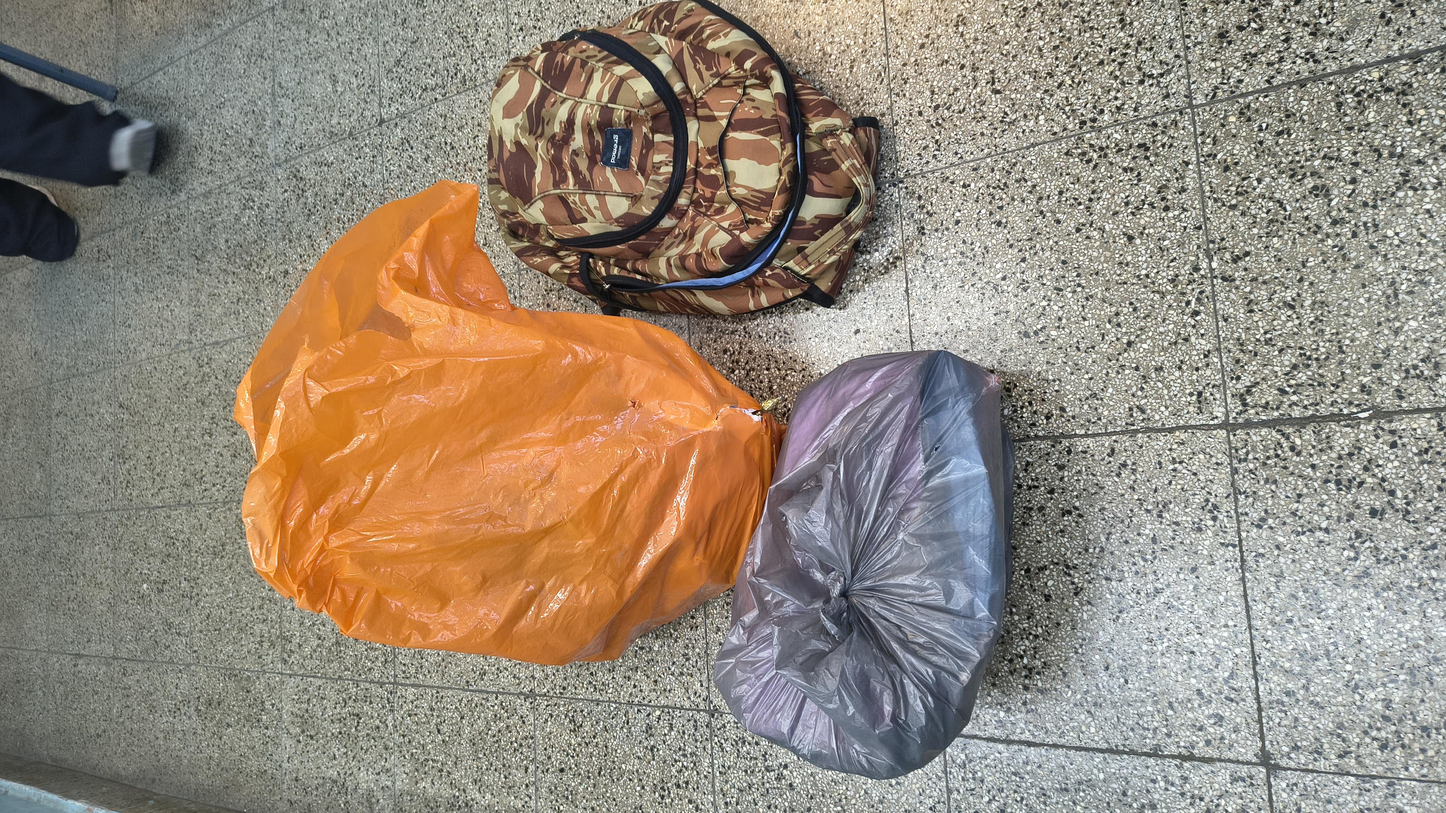Garbage: (226, 119, 1174, 439), (56, 385, 866, 591)
